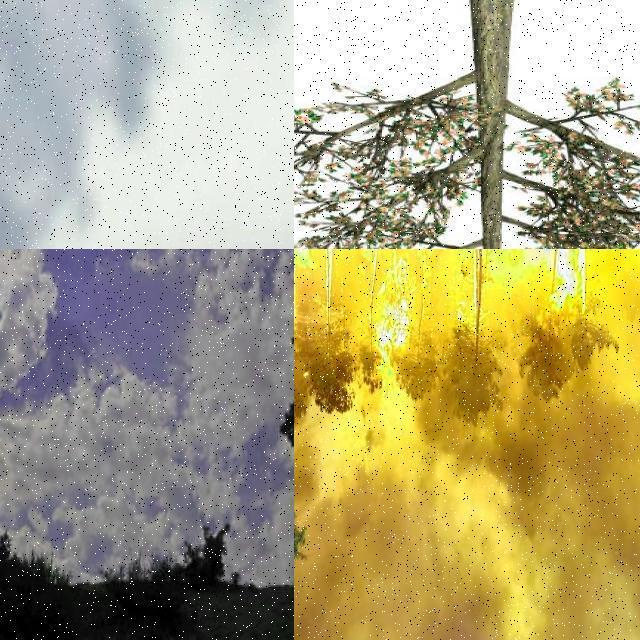tree: (294, 0, 640, 248), (294, 248, 386, 640), (0, 53, 132, 249), (445, 249, 507, 431), (299, 250, 361, 422), (386, 250, 446, 410), (516, 249, 572, 411), (570, 249, 620, 377), (357, 249, 385, 397)
